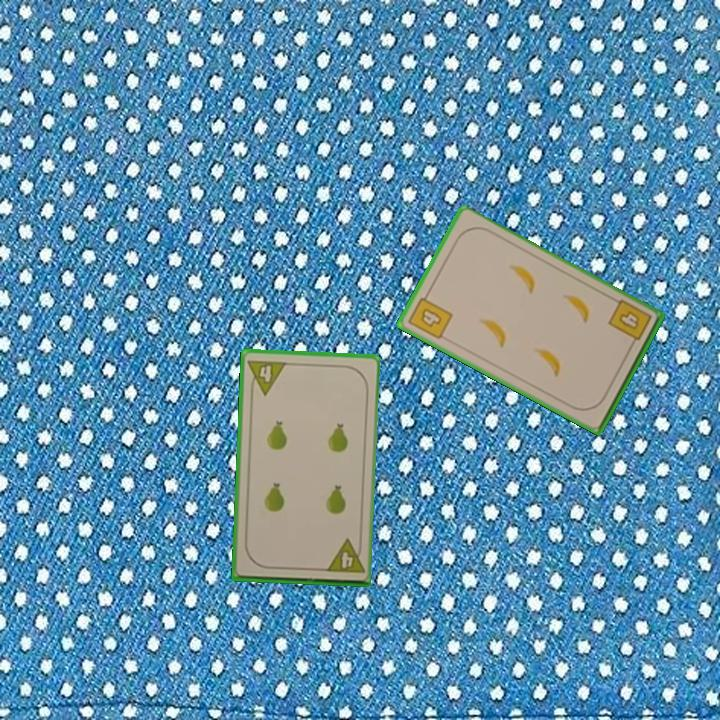4b: (404, 288, 455, 342), (604, 296, 654, 350)
4p: (244, 356, 289, 398), (322, 536, 366, 576)
